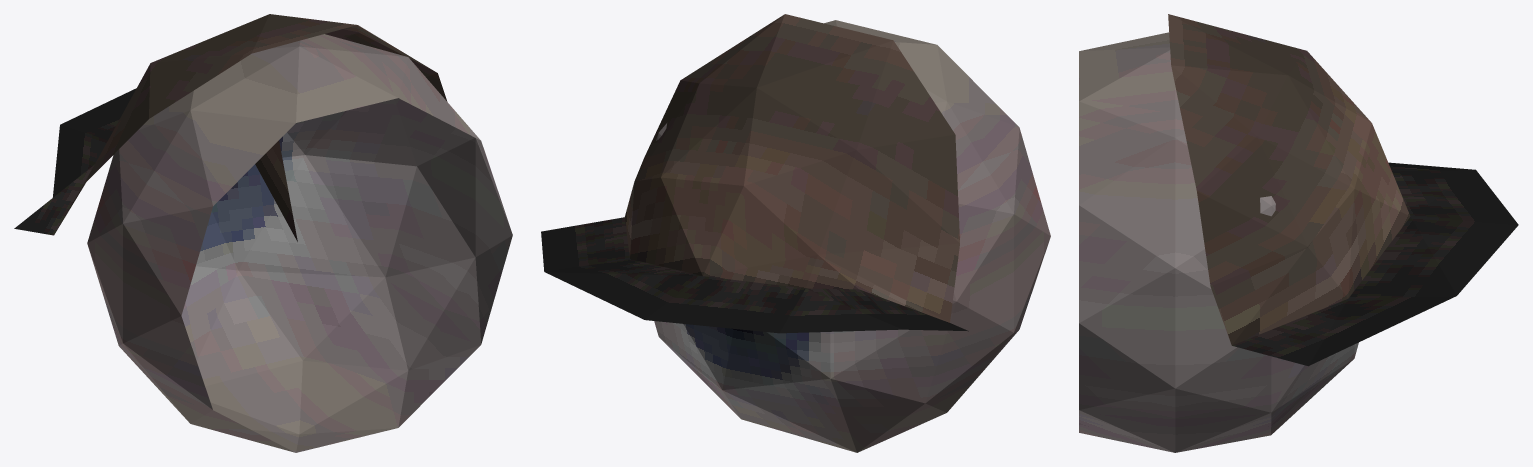
Rendered from recovered_gear_right_eye_blue_36491cc0a2f2.glb.
3 renders of one model, left to right at view 1: azimuth 30°, elevation 25°; view 2: azimuth 150°, elevation 25°; view 3: azimuth 270°, elevation 25°, orthographic.
Parts seen in each view (by area): view 1: right_eye_blue; view 2: right_eye_blue; view 3: right_eye_blue.
Part boxes in pixels (bbox=[...]): right_eye_blue: bbox=[14, 14, 512, 452]; right_eye_blue: bbox=[541, 14, 1050, 452]; right_eye_blue: bbox=[1079, 14, 1518, 452].
Bounding box in the file's own units: 0.0415 × 0.0356 × 0.0356.
2 materials, 2 textured.
